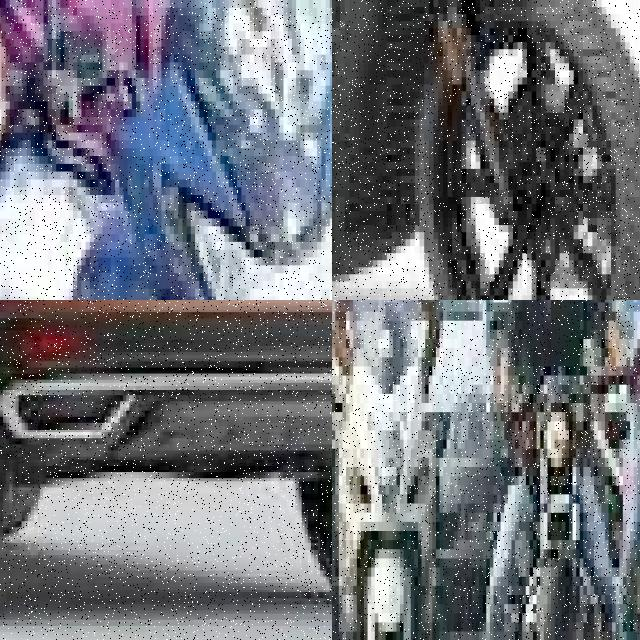bike: (0, 0, 332, 300), (332, 0, 640, 300), (332, 302, 446, 640), (507, 385, 608, 640)
car: (0, 300, 332, 640)
